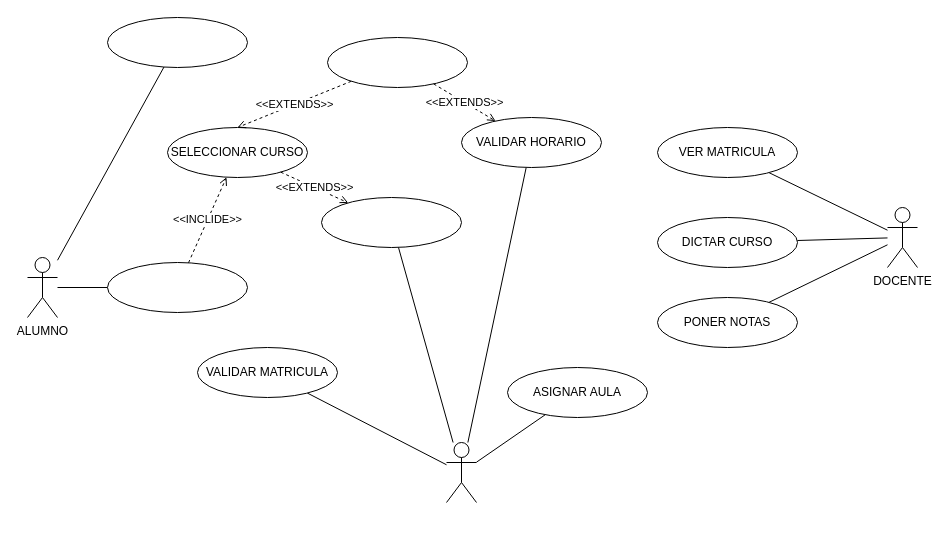
Image size: 949x541. Some labels were removed from this diagram. The centre of each missing label's shape, as x and y in pixels:
"ADMNISTRACION" goes at pixel 461 472.
"MATRICULAR" goes at pixel 177 287.
"PAGAR MATRICULA" goes at pixel 177 42.
"SELECCIONAR HORARIO" goes at pixel 397 62.
"VALIDAR CURSO" goes at pixel 391 222.
